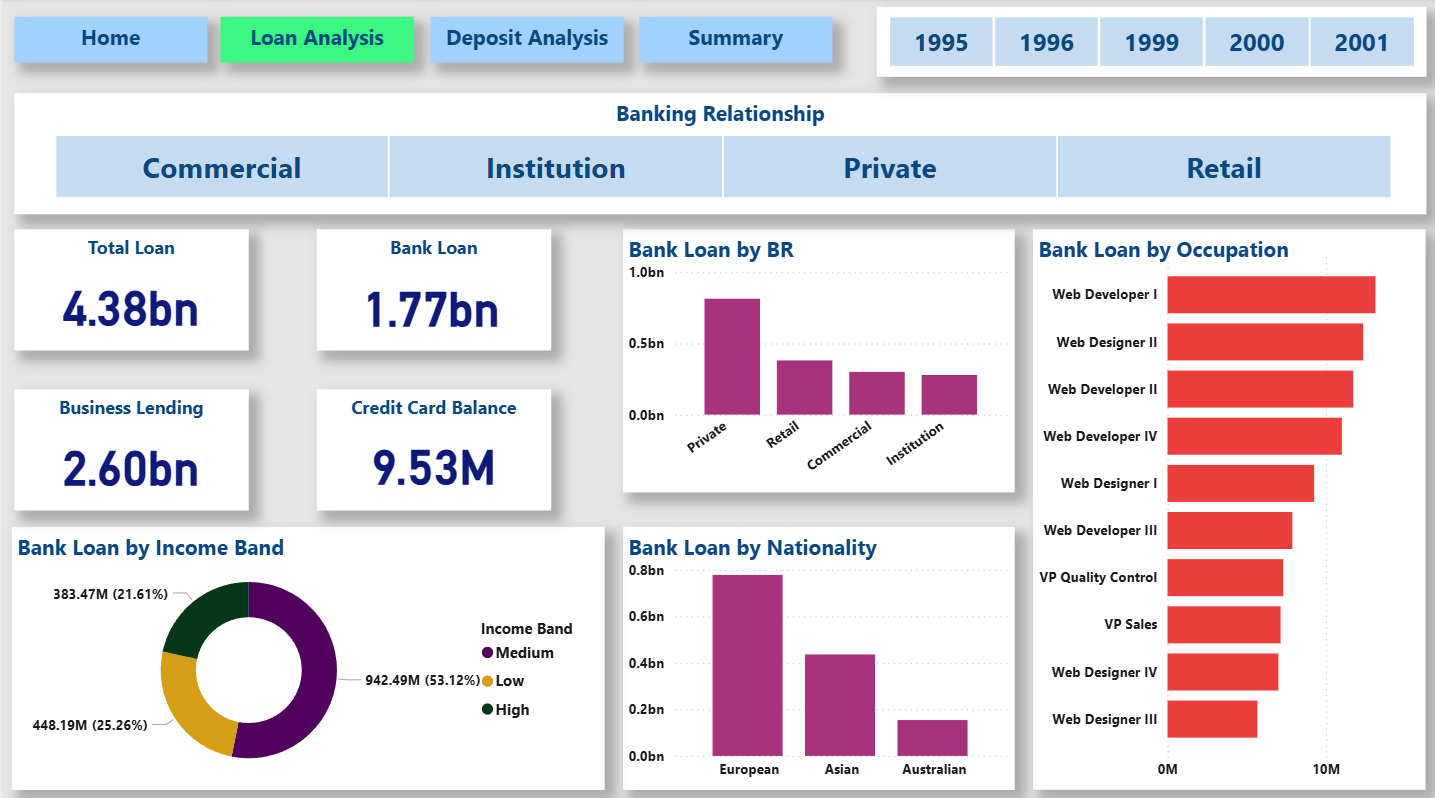

The dashboard page shown, as its layout file describes it:
{"tool":"powerbi","page":{"name":"Loan Analysis","canvas":[1280,720],"ordinal":1},"visuals":[{"type":"textbox","box":[9.8,17.2,171.8,40.5],"z":0},{"type":"textbox","box":[552.2,206.1,348.5,234.4],"z":1000},{"type":"textbox","box":[9.8,84.7,1257.7,108],"z":2000},{"type":"textbox","box":[917.8,206.1,349.7,499.4],"z":3000},{"type":"textbox","box":[193.9,17.2,171.8,40.5],"z":4000},{"type":"textbox","box":[380.4,17.2,171.8,40.5],"z":5000},{"type":"textbox","box":[566.9,17.2,171.8,40.5],"z":6000},{"type":"textbox","box":[552.2,471.2,348.5,234.4],"z":7000},{"type":"textbox","box":[7.4,471.2,527.6,234.4],"z":8000},{"type":"textbox","box":[9.8,206.1,208.6,108],"z":9000},{"type":"textbox","box":[279.8,348.5,208.6,108],"z":10000},{"type":"textbox","box":[279.8,206.1,208.6,108],"z":11000},{"type":"textbox","box":[9.8,348.5,208.6,108],"z":12000},{"type":"textbox","box":[777.9,7.4,489.6,62.6],"z":13000},{"type":"slicer","fields":{"Values":["public customer.joined_bank.Variation.Date Hierarchy.Year"]},"box":[763.2,9.8,516.6,57.7],"z":14000},{"type":"card","fields":{"Values":["public customer.Total Loan"]},"box":[18.4,240.5,190.2,63.8],"z":15000},{"type":"card","fields":{"Values":["Sum(public customer.business_lending)"]},"box":[18.4,373,190.2,83.4],"z":16000},{"type":"card","fields":{"Values":["Sum(public customer.credit_card_balance)"]},"box":[293.3,373,181.6,82.2],"z":17000},{"type":"card","fields":{"Values":["Sum(public customer.bank_loans)"]},"box":[295.7,230.7,170.6,84.7],"z":18000},{"type":"donutChart","fields":{"Y":["Sum(public customer.bank_loans)"],"Category":["public customer.Income Band"]},"box":[7.4,492,527.6,213.5],"z":19000},{"type":"clusteredColumnChart","fields":{"Category":["public customer.brid"],"Y":["Sum(public customer.bank_loans)"]},"box":[552.2,230.7,348.5,209.8],"z":20000},{"type":"clusteredColumnChart","fields":{"Y":["Sum(public customer.bank_loans)"],"Category":["public customer.nationality"]},"box":[552.2,495.7,348.5,209.8],"z":21000},{"type":"clusteredBarChart","fields":{"Y":["Sum(public customer.bank_loans)"],"Category":["public customer.occupation"]},"box":[917.8,218.4,349.7,487.1],"z":22000},{"type":"slicer","fields":{"Values":["public customer.brid"]},"box":[20.9,115.3,1238,68.7],"z":23000},{"type":"actionButton","box":[9.8,17.2,171.8,40.5],"z":24000},{"type":"actionButton","box":[380.4,17.2,171.8,40.5],"z":25000},{"type":"actionButton","box":[566.9,17.2,171.8,40.5],"z":26000}]}

Visuals, with their boxes in screenshot pixels (x1, y1, x2, y2), scaled from the page's 1280x720 canvas onto the 1435x798 screenshot:
textbox: <region>11, 19, 204, 64</region>
textbox: <region>619, 228, 1010, 488</region>
textbox: <region>11, 94, 1421, 214</region>
textbox: <region>1029, 228, 1421, 782</region>
textbox: <region>217, 19, 410, 64</region>
textbox: <region>426, 19, 619, 64</region>
textbox: <region>636, 19, 828, 64</region>
textbox: <region>619, 522, 1010, 782</region>
textbox: <region>8, 522, 600, 782</region>
textbox: <region>11, 228, 245, 348</region>
textbox: <region>314, 386, 548, 506</region>
textbox: <region>314, 228, 548, 348</region>
textbox: <region>11, 386, 245, 506</region>
textbox: <region>872, 8, 1421, 78</region>
slicer - public customer.joined_bank.Variation.Date Hierarchy.Year: <region>856, 11, 1434, 75</region>
card - public customer.Total Loan: <region>21, 267, 234, 337</region>
card - Sum(public customer.business_lending): <region>21, 413, 234, 506</region>
card - Sum(public customer.credit_card_balance): <region>329, 413, 532, 505</region>
card - Sum(public customer.bank_loans): <region>332, 256, 523, 350</region>
donutChart - Sum(public customer.bank_loans) x public customer.Income Band: <region>8, 545, 600, 782</region>
clusteredColumnChart - public customer.brid x Sum(public customer.bank_loans): <region>619, 256, 1010, 488</region>
clusteredColumnChart - Sum(public customer.bank_loans) x public customer.nationality: <region>619, 549, 1010, 782</region>
clusteredBarChart - Sum(public customer.bank_loans) x public customer.occupation: <region>1029, 242, 1421, 782</region>
slicer - public customer.brid: <region>23, 128, 1411, 204</region>
actionButton: <region>11, 19, 204, 64</region>
actionButton: <region>426, 19, 619, 64</region>
actionButton: <region>636, 19, 828, 64</region>
